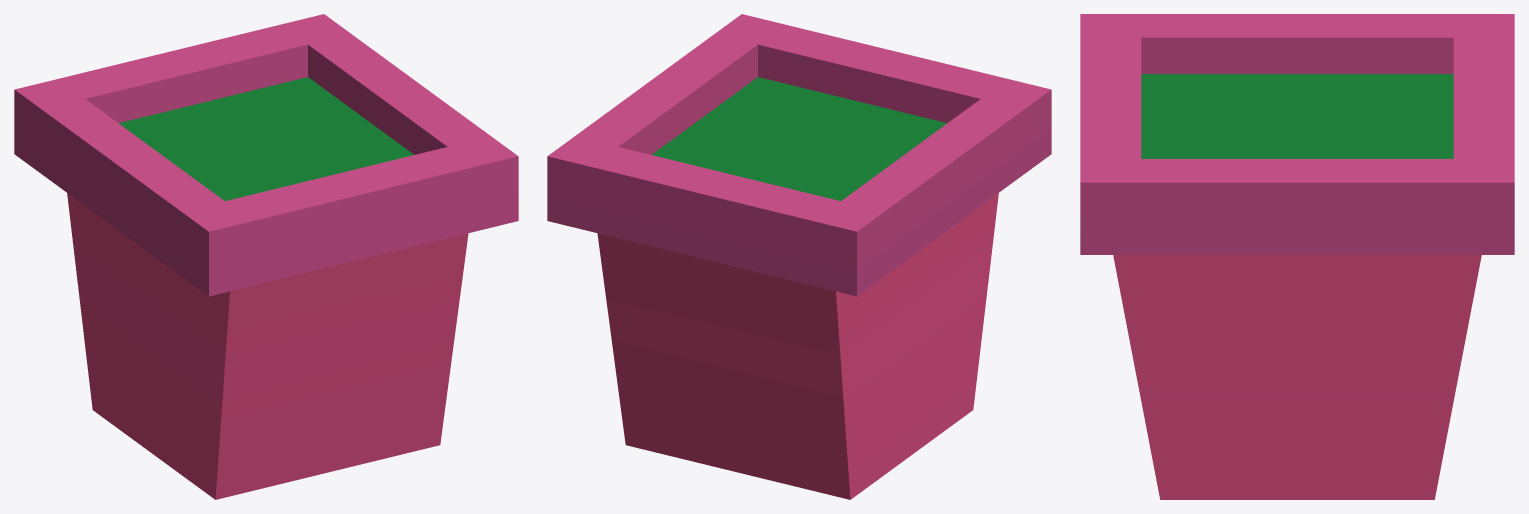
File: FlowerPot_5_3_D.fbx
3 views of the same model, side by side, from view 1: azimuth 30°, elevation 25°; view 2: azimuth 150°, elevation 25°; view 3: azimuth 270°, elevation 25° (orthographic). The views are drawn at different scales.
Visible parts, largest first — view 1: FlowerPot_5_3_D; view 2: FlowerPot_5_3_D; view 3: FlowerPot_5_3_D.
Part boxes in pixels (bbox=[...]): FlowerPot_5_3_D: bbox=[14, 14, 518, 499]; FlowerPot_5_3_D: bbox=[547, 14, 1051, 499]; FlowerPot_5_3_D: bbox=[1080, 14, 1514, 499].
Size of the model in its own units: 32.46 by 30.52 by 35.3.
